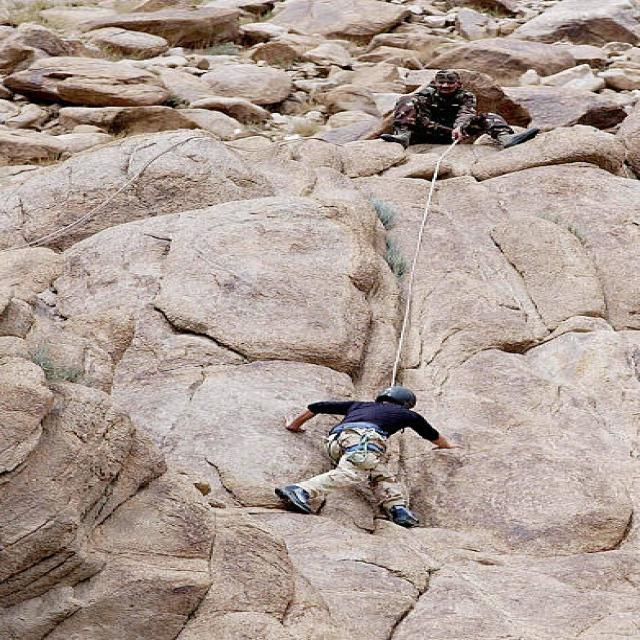soldier: (275, 386, 465, 528)
